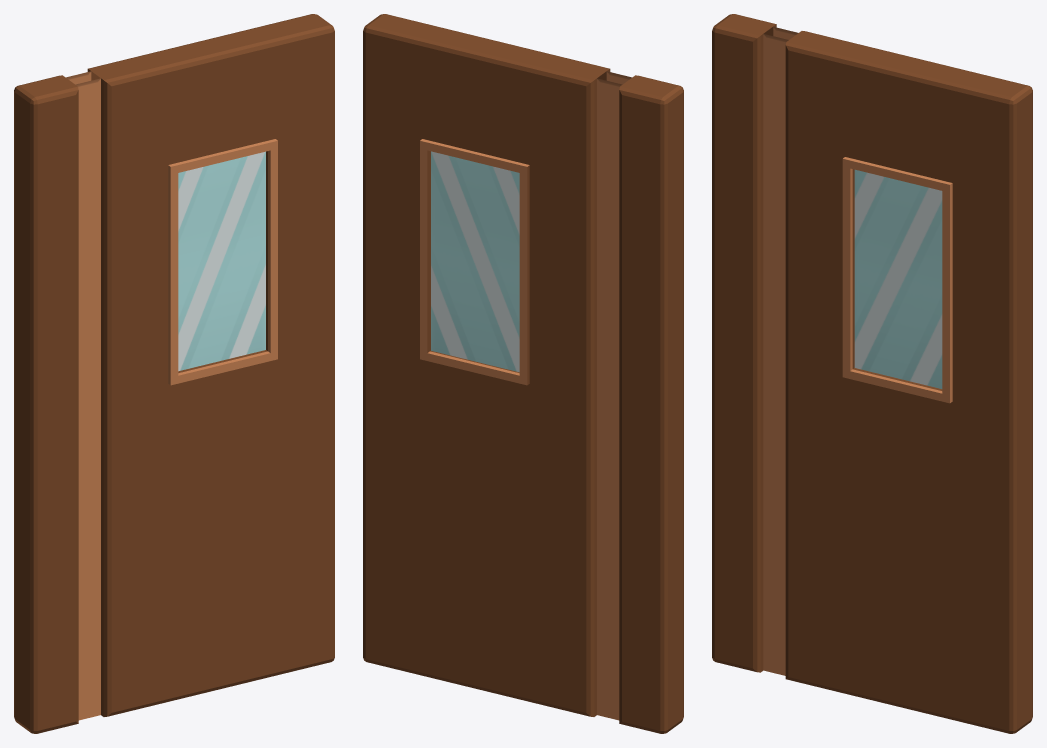
Rendered from Mod_Door_01.fbx.
The picture shows the model from 3 angles, left to right: view 1: azimuth 30°, elevation 25°; view 2: azimuth 150°, elevation 25°; view 3: azimuth 330°, elevation 25°; orthographic projection.
Parts seen in each view (by area): view 1: Mod_Door_01; view 2: Mod_Door_01; view 3: Mod_Door_01.
Boxes of the visible parts, x1,y1,x2,y2 form: Mod_Door_01: [14, 14, 334, 733]; Mod_Door_01: [363, 14, 683, 733]; Mod_Door_01: [712, 14, 1032, 733].
Size of the model in its own units: 100 by 200 by 14.86.
